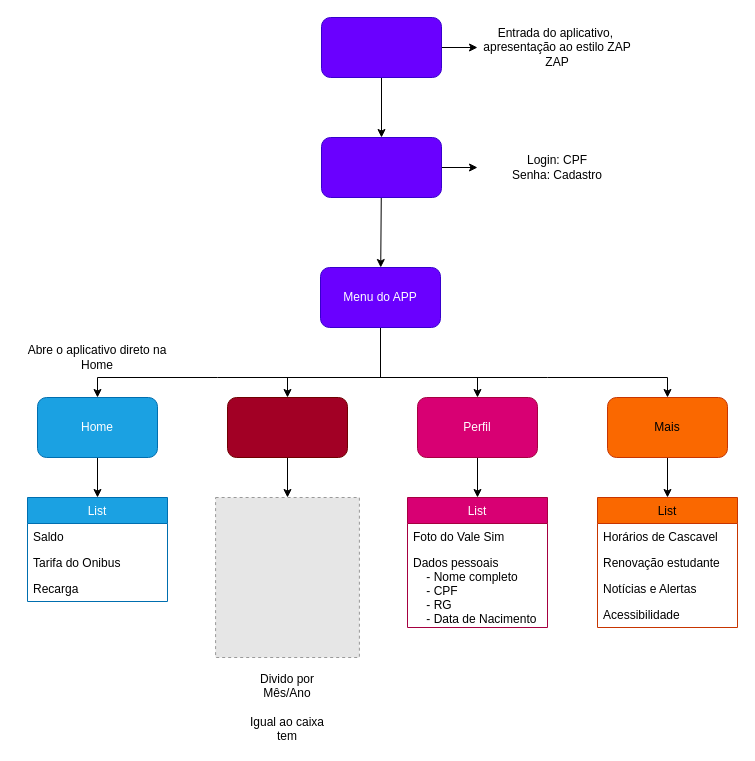
This 755x761 diagram has some shape labels left out. Grey dashed boxes stand in for pictures. The shapes that lost their labels are listed below. From the top down, each one's centre as x and y in pixels, then its label:
the point at 381,47: Apresentação
the point at 381,167: Login/Senha
the point at 287,427: Extrato
